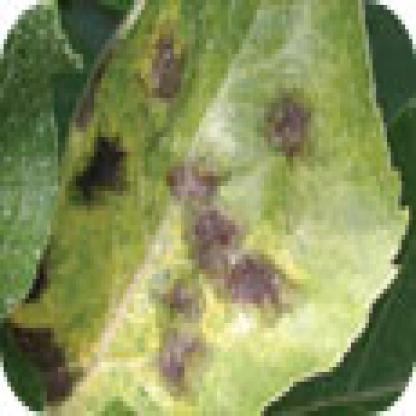apple scab leaf: (61, 5, 409, 411)
